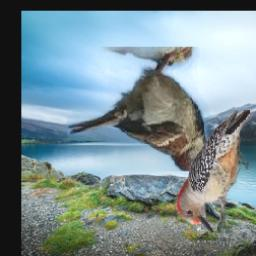Sparrow: (67, 47, 215, 171)
Woodpecker: (177, 110, 251, 233)
